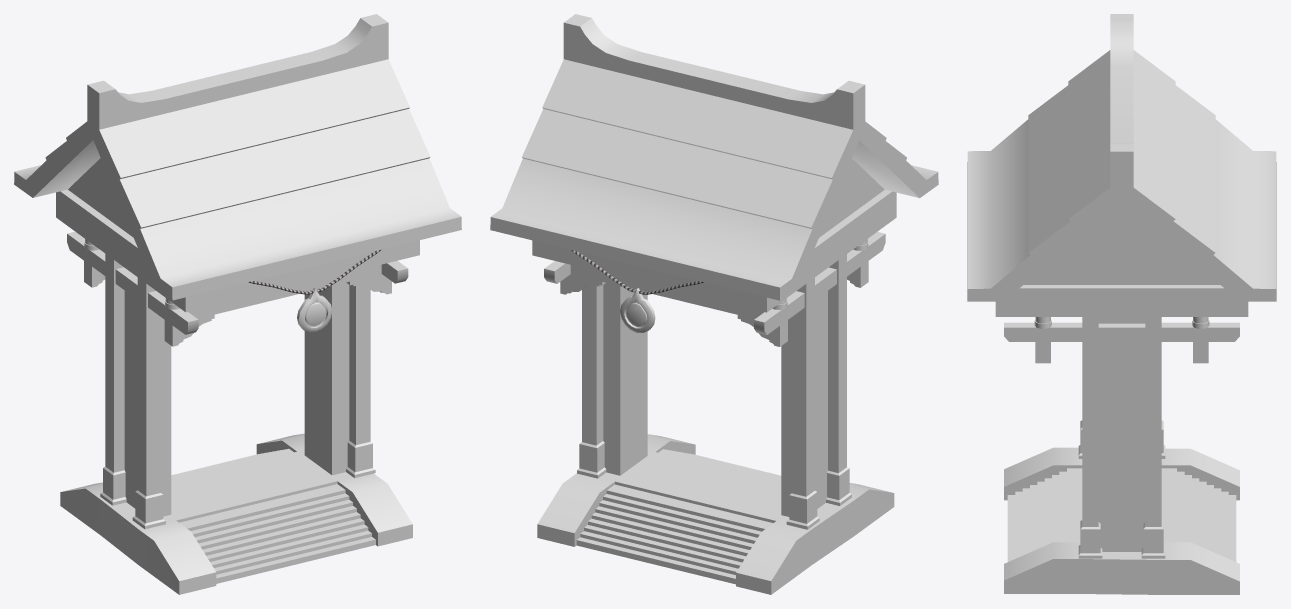
Rendered from Entrance_Wall.fbx.
The picture shows the model from 3 angles, left to right: view 1: azimuth 30°, elevation 25°; view 2: azimuth 150°, elevation 25°; view 3: azimuth 270°, elevation 25°; orthographic projection. The views are drawn at different scales.
Visible parts, largest first — view 1: Plane; view 2: Plane; view 3: Plane.
Part boxes in pixels (x1,y1,x2,y2): Plane: (14,14,461,594); Plane: (490,14,938,594); Plane: (967,14,1276,594).
Size of the model in its own units: 414 by 640 by 392.
